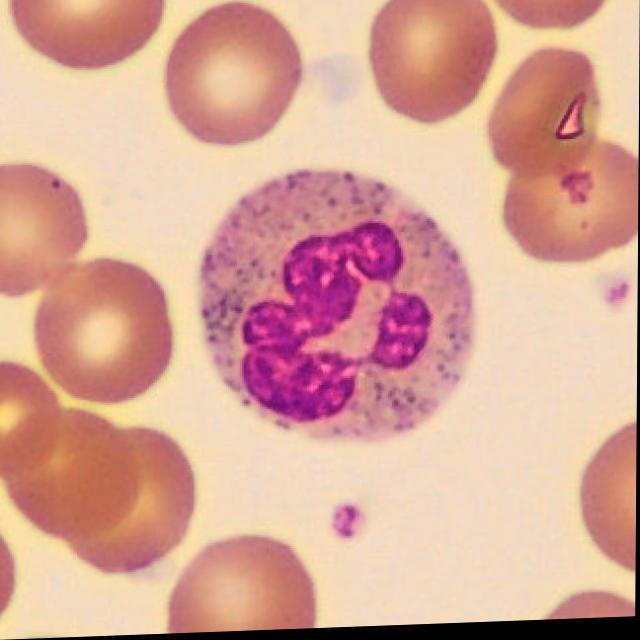Neutrofilo segmentado: (198, 170, 478, 446)
